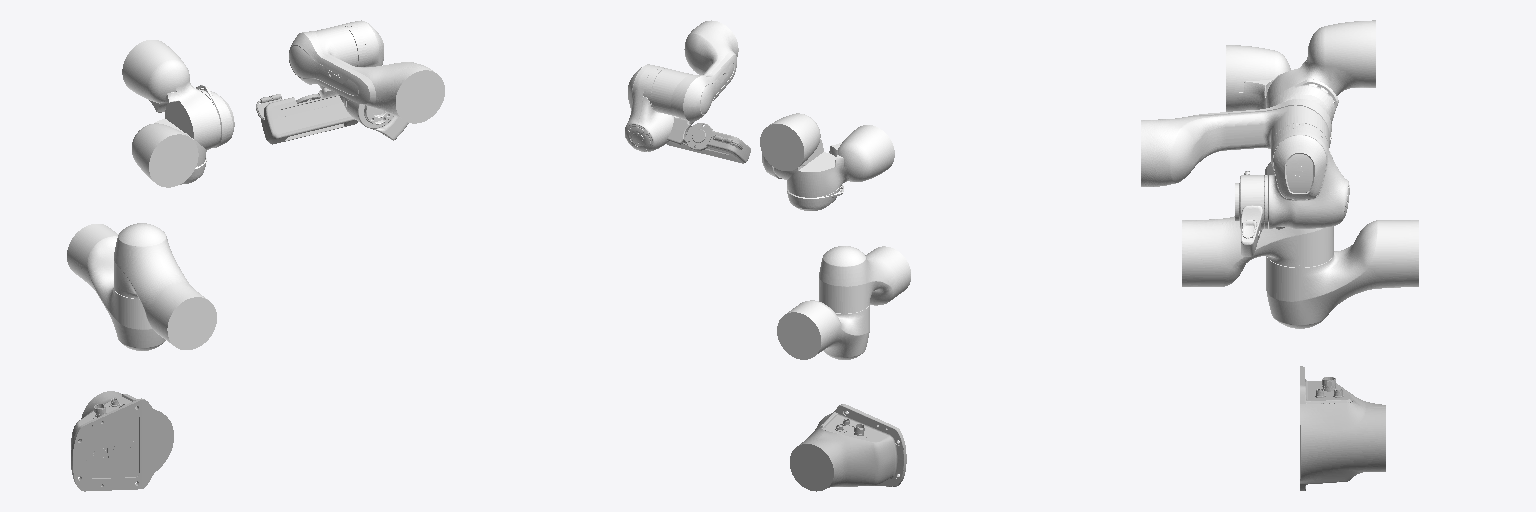
URDF robot description (panda):
<?xml version="1.0" ?>

<robot name="panda" xmlns:xacro="http://www.ros.org/wiki/xacro">
  
  <link name="panda_link0">
    <visual>
      <geometry>
        <mesh filename="package://panda/meshes/visual/link0.stl"/>
      </geometry>
      <material name="panda_gray"/>
    </visual>
    <collision>
      <geometry>
        <mesh filename="package://panda/meshes/collision/link0.stl"/>
      </geometry>
      <material name="panda_gray"/>
    </collision>
    <inertial>
      <origin xyz="0 0 0" rpy="0 0 0"/>
      <mass value="3.06"/>
      <inertia ixx="0.3" ixy="0.0" ixz="0.0" iyy="0.3" iyz="0.0" izz="0.3"/>
    </inertial>
  </link>
  
  <link name="panda_link1">
    <visual>
      <geometry>
        <mesh filename="package://panda/meshes/visual/link1.stl"/>
      </geometry>
      <material name="panda_white"/>
    </visual>
    <collision>
      <geometry>
        <mesh filename="package://panda/meshes/collision/link1.stl"/>
      </geometry>
      <material name="panda_white"/>
    </collision>
    <inertial>
      <origin xyz="0 0 0" rpy="0 0 0"/>
      <mass value="2.34"/>
      <inertia ixx="0.3" ixy="0.0" ixz="0.0" iyy="0.3" iyz="0.0" izz="0.3"/>
    </inertial>
  </link>
  
  <joint name="panda_joint1" type="revolute">
    <safety_controller k_position="100.0" k_velocity="40.0" soft_lower_limit="-2.8973" soft_upper_limit="2.8973"/>
    <origin rpy="0 0 0" xyz="0 0 0.333"/>
    <parent link="panda_link0"/>
    <child link="panda_link1"/>
    <axis xyz="0 0 1"/>
    <limit effort="87" lower="-2.8973" upper="2.8973" velocity="2.1750"/>
    <dynamics damping="0.5"/>
  </joint>
  
  <link name="panda_link2">
    <visual>
      <geometry>
        <mesh filename="package://panda/meshes/visual/link2.stl"/>
      </geometry>
      <material name="panda_white"/>
    </visual>
    <collision>
      <geometry>
        <mesh filename="package://panda/meshes/collision/link2.stl"/>
      </geometry>
      <material name="panda_white"/>
    </collision>
    <inertial>
      <origin xyz="0 0 0" rpy="0 0 0"/>
      <mass value="2.36"/>
      <inertia ixx="0.3" ixy="0.0" ixz="0.0" iyy="0.3" iyz="0.0" izz="0.3"/>
    </inertial>
  </link>
  
  <joint name="panda_joint2" type="revolute">
    <safety_controller k_position="100.0" k_velocity="40.0" soft_lower_limit="-1.7628" soft_upper_limit="1.7628"/>
    <origin rpy="-1.57079632679 0 0" xyz="0 0 0"/>
    <parent link="panda_link1"/>
    <child link="panda_link2"/>
    <axis xyz="0 0 1"/>
    <limit effort="87" lower="-1.7628" upper="1.7628" velocity="2.1750"/>
    <dynamics damping="0.5"/>
  </joint>
  
  <link name="panda_link3">
    <visual>
      <geometry>
        <mesh filename="package://panda/meshes/visual/link3.stl"/>
      </geometry>
      <material name="panda_white"/>
    </visual>
    <collision>
      <geometry>
        <mesh filename="package://panda/meshes/collision/link3.stl"/>
      </geometry>
      <material name="panda_white"/>
    </collision>
    <inertial>
      <origin xyz="0 0 0" rpy="0 0 0"/>
      <mass value="2.38"/>
      <inertia ixx="0.3" ixy="0.0" ixz="0.0" iyy="0.3" iyz="0.0" izz="0.3"/>
    </inertial>
  </link>
  
  <joint name="panda_joint3" type="revolute">
    <safety_controller k_position="100.0" k_velocity="40.0" soft_lower_limit="-2.8973" soft_upper_limit="2.8973"/>
    <origin rpy="1.57079632679 0 0" xyz="0 -0.316 0"/>
    <parent link="panda_link2"/>
    <child link="panda_link3"/>
    <axis xyz="0 0 1"/>
    <limit effort="87" lower="-2.8973" upper="2.8973" velocity="2.1750"/>
    <dynamics damping="0.5"/>
  </joint>
  
  <link name="panda_link4">
    <visual>
      <geometry>
        <mesh filename="package://panda/meshes/visual/link4.stl"/>
      </geometry>
      <material name="panda_white"/>
    </visual>
    <collision>
      <geometry>
        <mesh filename="package://panda/meshes/collision/link4.stl"/>
      </geometry>
      <material name="panda_white"/>
    </collision>
    <inertial>
      <origin xyz="0 0 0" rpy="0 0 0"/>
      <mass value="2.43"/>
      <inertia ixx="0.3" ixy="0.0" ixz="0.0" iyy="0.3" iyz="0.0" izz="0.3"/>
    </inertial>
  </link>
  
  <joint name="panda_joint4" type="revolute">
    <safety_controller k_position="100.0" k_velocity="40.0" soft_lower_limit="-3.0718" soft_upper_limit="-0.0698"/>
    <origin rpy="1.57079632679 0 0" xyz="0.0825 0 0"/>
    <parent link="panda_link3"/>
    <child link="panda_link4"/>
    <axis xyz="0 0 1"/>
    <limit effort="87" lower="-3.0718" upper="-0.0698" velocity="2.1750"/>
    <dynamics damping="0.5"/>
  </joint>
  
  <link name="panda_link5">
    <visual>
      <geometry>
        <mesh filename="package://panda/meshes/visual/link5.stl"/>
      </geometry>
      <material name="panda_white"/>
    </visual>
    <collision>
      <geometry>
        <mesh filename="package://panda/meshes/collision/link5.stl"/>
      </geometry>
      <material name="panda_white"/>
    </collision>
    <inertial>
      <origin xyz="0 0 0" rpy="0 0 0"/>
      <mass value="3.5"/>
      <inertia ixx="0.3" ixy="0.0" ixz="0.0" iyy="0.3" iyz="0.0" izz="0.3"/>
    </inertial>
  </link>
  
  <joint name="panda_joint5" type="revolute">
    <safety_controller k_position="100.0" k_velocity="40.0" soft_lower_limit="-2.8973" soft_upper_limit="2.8973"/>
    <origin rpy="-1.57079632679 0 0" xyz="-0.0825 0.384 0"/>
    <parent link="panda_link4"/>
    <child link="panda_link5"/>
    <axis xyz="0 0 1"/>
    <limit effort="12" lower="-2.8973" upper="2.8973" velocity="2.6100"/>
    <dynamics damping="0.5"/>
  </joint>
  
  <link name="panda_link6">
    <visual>
      <geometry>
        <mesh filename="package://panda/meshes/visual/link6.stl"/>
      </geometry>
      <material name="panda_white"/>
    </visual>
    <collision>
      <geometry>
        <mesh filename="package://panda/meshes/collision/link6.stl"/>
      </geometry>
      <material name="panda_white"/>
    </collision>
    <inertial>
      <origin xyz="0 0 0" rpy="0 0 0"/>
      <mass value="1.47"/>
      <inertia ixx="0.3" ixy="0.0" ixz="0.0" iyy="0.3" iyz="0.0" izz="0.3"/>
    </inertial>
  </link>
  
  <joint name="panda_joint6" type="revolute">
    <safety_controller k_position="100.0" k_velocity="40.0" soft_lower_limit="-0.0175" soft_upper_limit="3.7525"/>
    <origin rpy="1.57079632679 0 0" xyz="0 0 0"/>
    <parent link="panda_link5"/>
    <child link="panda_link6"/>
    <axis xyz="0 0 1"/>
    <limit effort="12" lower="-0.0175" upper="3.752" velocity="2.6100"/>
    <dynamics damping="0.5"/>
  </joint>
  
  <link name="panda_link7">
    <visual>
      <geometry>
        <mesh filename="package://panda/meshes/visual/link7.stl"/>
      </geometry>
      <material name="panda_white"/>
    </visual>
    <collision>
      <geometry>
        <mesh filename="package://panda/meshes/collision/link7.stl"/>
      </geometry>
      <material name="panda_white"/>
    </collision>
    <inertial>
      <origin xyz="0 0 0" rpy="0 0 0"/>
      <mass value="0.45"/>
      <inertia ixx="0.3" ixy="0.0" ixz="0.0" iyy="0.3" iyz="0.0" izz="0.3"/>
    </inertial>
  </link>
  
  <joint name="panda_joint7" type="revolute">
    <safety_controller k_position="100.0" k_velocity="40.0" soft_lower_limit="-2.8973" soft_upper_limit="2.8973"/>
    <origin rpy="1.57079632679 0 0" xyz="0.088 0 0"/>
    <parent link="panda_link6"/>
    <child link="panda_link7"/>
    <axis xyz="0 0 1"/>
    <limit effort="12" lower="-2.8973" upper="2.8973" velocity="2.6100"/>
    <dynamics damping="0.5"/>
  </joint>
  
  <joint name="panda_hand_joint" type="fixed">
    <parent link="panda_link7"/>
    <child link="panda_hand"/>
    <origin rpy="0 0 -0.785398163397" xyz="0 0 0.107"/>
  </joint>
  
  <link name="panda_hand">
    <visual>
      <geometry>
        <mesh filename="package://panda/meshes/visual/hand.stl"/>
      </geometry>
      <material name="panda_gray"/>
    </visual>
    <collision>
      <geometry>
        <mesh filename="package://panda/meshes/collision/hand.stl"/>
      </geometry>
      <material name="panda_gray"/>
    </collision>
    <inertial>
      <origin xyz="0 0 0" rpy="0 0 0"/>
      <mass value="0.68"/>
      <inertia ixx="0.1" ixy="0.0" ixz="0.0" iyy="0.1" iyz="0.0" izz="0.1"/>
    </inertial>
  </link>
  
  <link name="panda_leftfinger">
    <visual>
      <geometry>
        <mesh filename="package://panda/meshes/visual/finger.stl"/>
      </geometry>
      <material name="panda_gray"/>
    </visual>
    <collision>
      <geometry>
        <mesh filename="package://panda/meshes/collision/finger.stl"/>
      </geometry>
      <material name="panda_gray"/>
    </collision>
    <inertial>
      <origin xyz="0 0 0" rpy="0 0 0"/>
      <mass value="0.01"/>
      <inertia ixx="0.1" ixy="0.0" ixz="0.0" iyy="0.1" iyz="0.0" izz="0.1"/>
    </inertial>
  </link>
  
  <link name="panda_rightfinger">
    <visual>
      <origin rpy="0 0 3.14159265359" xyz="0 0 0"/>
      <geometry>
        <mesh filename="package://panda/meshes/visual/finger.stl"/>
      </geometry>
      <material name="panda_gray"/>
    </visual>
    <collision>
      <origin rpy="0 0 3.14159265359" xyz="0 0 0"/>
      <geometry>
        <mesh filename="package://panda/meshes/collision/finger.stl"/>
      </geometry>
      <material name="panda_gray"/>
    </collision>
    <inertial>
      <origin xyz="0 0 0" rpy="0 0 0"/>
      <mass value="0.01"/>
      <inertia ixx="0.1" ixy="0.0" ixz="0.0" iyy="0.1" iyz="0.0" izz="0.1"/>
    </inertial>
  </link>
  
  <joint name="panda_finger_joint1" type="prismatic">
    <parent link="panda_hand"/>
    <child link="panda_leftfinger"/>
    <origin rpy="0 0 0" xyz="0 0 0.0584"/>
    <axis xyz="0 1 0"/>
    <limit effort="20" lower="0.0" upper="0.04" velocity="0.2"/>
  </joint>
  
  <joint name="panda_finger_joint2" type="prismatic">
    <parent link="panda_hand"/>
    <child link="panda_rightfinger"/>
    <origin rpy="0 0 0" xyz="0 0 0.0584"/>
    <axis xyz="0 -1 0"/>
    <limit effort="20" lower="0.0" upper="0.04" velocity="0.2"/>
    <mimic joint="panda_finger_joint1"/>
  </joint>
  
  
  <material name="panda_white">
    <color rgba="1. 1. 1. 1."/>
  </material>
  <material name="panda_gray">
    <color rgba=".8 .8 .8 1."/>
  </material>
</robot>

--- What the picture shows (computed from the rendered views, not written in the file) ---
The picture shows the robot from 3 angles, left to right: view 1: azimuth 30°, elevation 25°; view 2: azimuth 150°, elevation 25°; view 3: azimuth 270°, elevation 25°; orthographic projection.
Robot: panda — 11 links, 10 joints (7 revolute, 2 prismatic, 1 fixed); root link panda_link0; default pose: joints at zero except 1 at the middle of their limits (panda_joint4 = -1.57).
Visible links, largest first — view 1: panda_link0, panda_link5, panda_link1, panda_link4, panda_link2, panda_link3, panda_hand, panda_link6, panda_link7; view 2: panda_link0, panda_link5, panda_link3, panda_link1, panda_link2, panda_link4, panda_link6, panda_hand; view 3: panda_link2, panda_link5, panda_link0, panda_link6, panda_link1, panda_link4, panda_link3, panda_link7.
Boxes of the visible links, bbox=[...] form: panda_link0: bbox=[71, 391, 173, 491]; panda_link5: bbox=[289, 25, 444, 123]; panda_link1: bbox=[114, 223, 216, 349]; panda_link4: bbox=[122, 40, 234, 149]; panda_link2: bbox=[67, 224, 165, 350]; panda_link3: bbox=[132, 119, 206, 187]; panda_hand: bbox=[256, 88, 357, 144]; panda_link6: bbox=[319, 20, 383, 112]; panda_link7: bbox=[347, 99, 408, 140]; panda_link0: bbox=[790, 404, 906, 491]; panda_link5: bbox=[651, 20, 738, 121]; panda_link3: bbox=[787, 125, 894, 210]; panda_link1: bbox=[819, 246, 910, 313]; panda_link2: bbox=[777, 300, 869, 359]; panda_link4: bbox=[760, 113, 823, 179]; panda_link6: bbox=[625, 64, 678, 151]; panda_hand: bbox=[667, 117, 750, 163]; panda_link2: bbox=[1266, 220, 1418, 328]; panda_link5: bbox=[1141, 99, 1331, 186]; panda_link0: bbox=[1300, 366, 1385, 490]; panda_link6: bbox=[1269, 123, 1349, 228]; panda_link1: bbox=[1182, 216, 1333, 286]; panda_link4: bbox=[1266, 20, 1375, 123]; panda_link3: bbox=[1226, 45, 1331, 147]; panda_link7: bbox=[1235, 171, 1267, 256].
Size in the robot's own frame: 0.7019 by 0.453 by 0.8811 metres.
9 mesh visuals loaded from 10 distinct referenced files (9 binary STL); not drawn: 2 (reference not matched to a file when rendering).